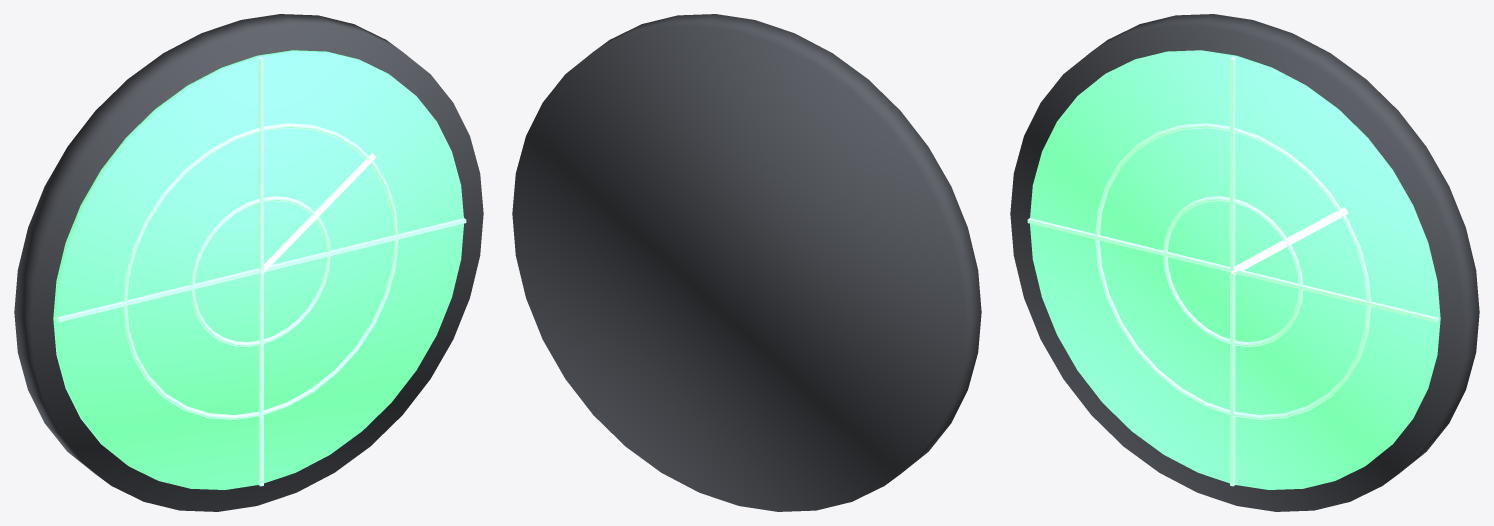
Rendered from wall_screen_radar.glb.
3 renders of one model, left to right at view 1: azimuth 30°, elevation 25°; view 2: azimuth 150°, elevation 25°; view 3: azimuth 330°, elevation 25°, orthographic.
Parts seen in each view (by area): view 1: GD_wall_screen_radar__m1, GD_wall_screen_radar__m0, GD_wall_screen_radar__m2, GD_wall_screen_radar__m3; view 2: GD_wall_screen_radar__m0; view 3: GD_wall_screen_radar__m1, GD_wall_screen_radar__m0, GD_wall_screen_radar__m2, GD_wall_screen_radar__m3.
Boxes of the visible parts, <box> form: GD_wall_screen_radar__m1: <box>53,50,463,489</box>; GD_wall_screen_radar__m0: <box>14,14,483,511</box>; GD_wall_screen_radar__m2: <box>55,56,466,486</box>; GD_wall_screen_radar__m3: <box>262,153,376,273</box>; GD_wall_screen_radar__m0: <box>512,14,981,511</box>; GD_wall_screen_radar__m1: <box>1030,50,1440,489</box>; GD_wall_screen_radar__m0: <box>1010,14,1479,511</box>; GD_wall_screen_radar__m2: <box>1027,56,1438,486</box>; GD_wall_screen_radar__m3: <box>1231,207,1348,274</box>.
Bounding box in the file's own units: 0.8 × 0.8 × 0.068.
